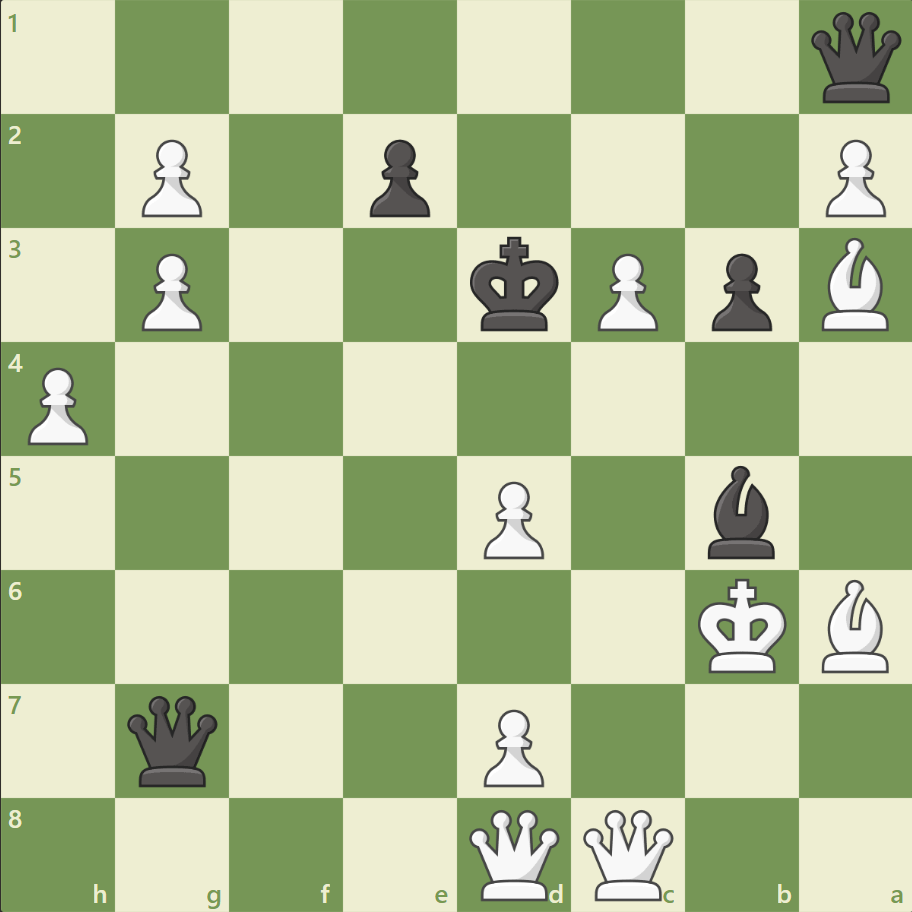B: (812, 233, 896, 336), (812, 574, 896, 676)
K: (692, 571, 792, 679)
P: (474, 700, 549, 791), (474, 473, 549, 564), (20, 359, 95, 450), (133, 246, 208, 337), (133, 132, 208, 223), (588, 246, 662, 337), (815, 132, 889, 223)
Q: (578, 804, 677, 903), (464, 804, 563, 903)
b: (698, 460, 782, 563)
k: (465, 231, 565, 339)
p: (701, 246, 776, 337), (361, 132, 435, 223)
q: (124, 690, 223, 789), (805, 9, 904, 108)
